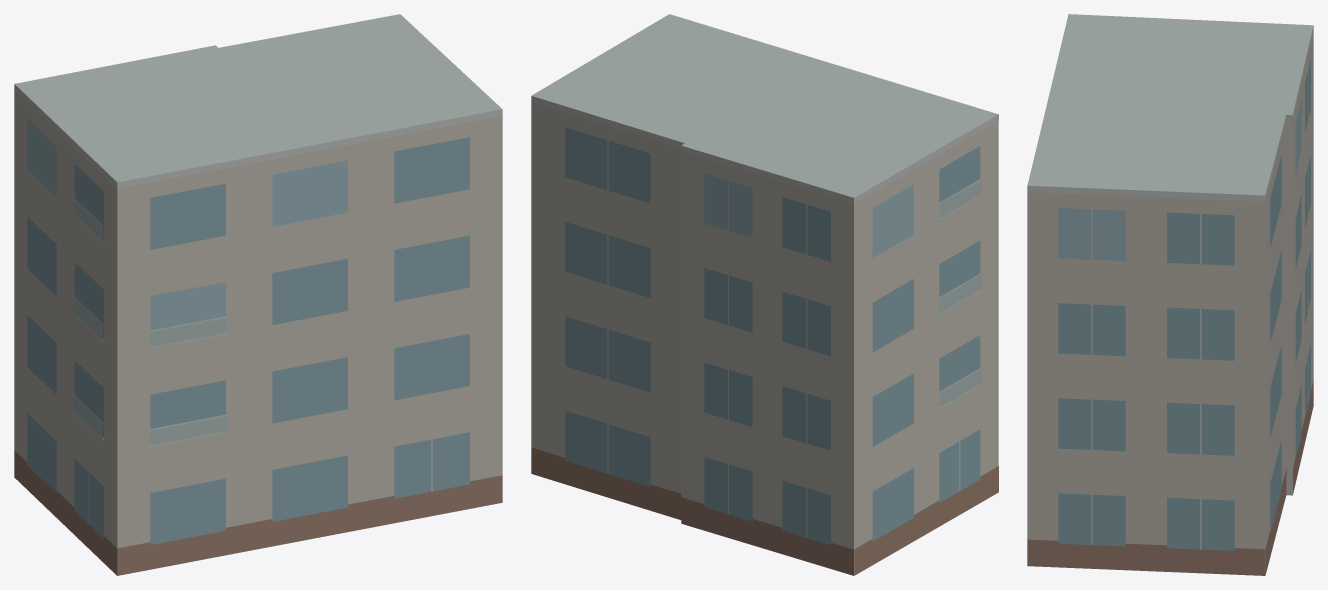
File: survey-upis-32920562.glb
The picture shows the model from 3 angles, left to right: view 1: azimuth 30°, elevation 25°; view 2: azimuth 150°, elevation 25°; view 3: azimuth 270°, elevation 25°; orthographic projection. The views are drawn at different scales.
Parts seen in each view (by area): view 1: survey-upis-32920562.tmp; view 2: survey-upis-32920562.tmp; view 3: survey-upis-32920562.tmp.
Part boxes in pixels (x1,y1,x2,y2): survey-upis-32920562.tmp: (14, 14, 502, 575); survey-upis-32920562.tmp: (531, 14, 998, 575); survey-upis-32920562.tmp: (1027, 14, 1313, 575).
Size of the model in its own units: 14.85 by 14.5 by 9.9.
